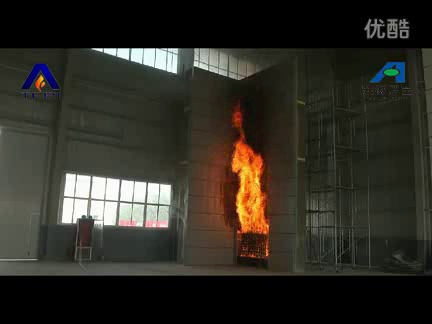fire: (227, 107, 269, 233)
